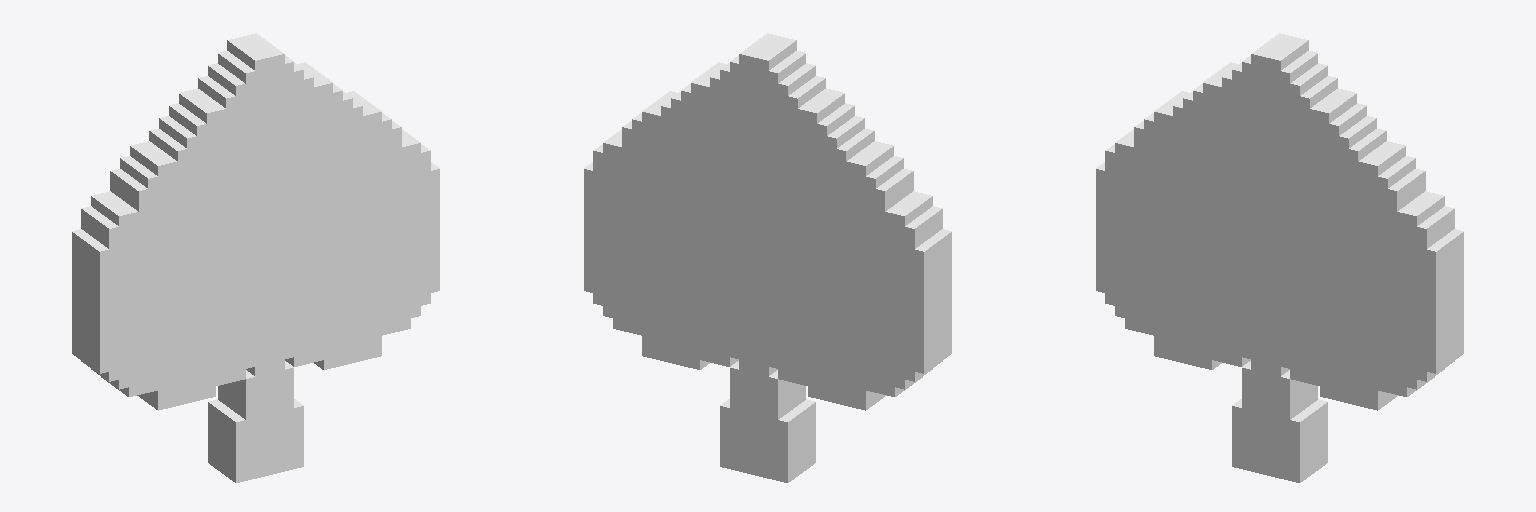
Rendered from Spead.obj.
3 renders of one model, left to right at view 1: azimuth 30°, elevation 25°; view 2: azimuth 150°, elevation 25°; view 3: azimuth 330°, elevation 25°, orthographic.
Visible parts, largest first — view 1: object 1; view 2: object 1; view 3: object 1.
Boxes of the visible parts, box(x1,y1,x2,y2) form: object 1: box(72, 33, 439, 482); object 1: box(584, 33, 951, 482); object 1: box(1096, 33, 1463, 482).
Bounding box in the file's own units: 3.5 × 4.1 × 0.5.